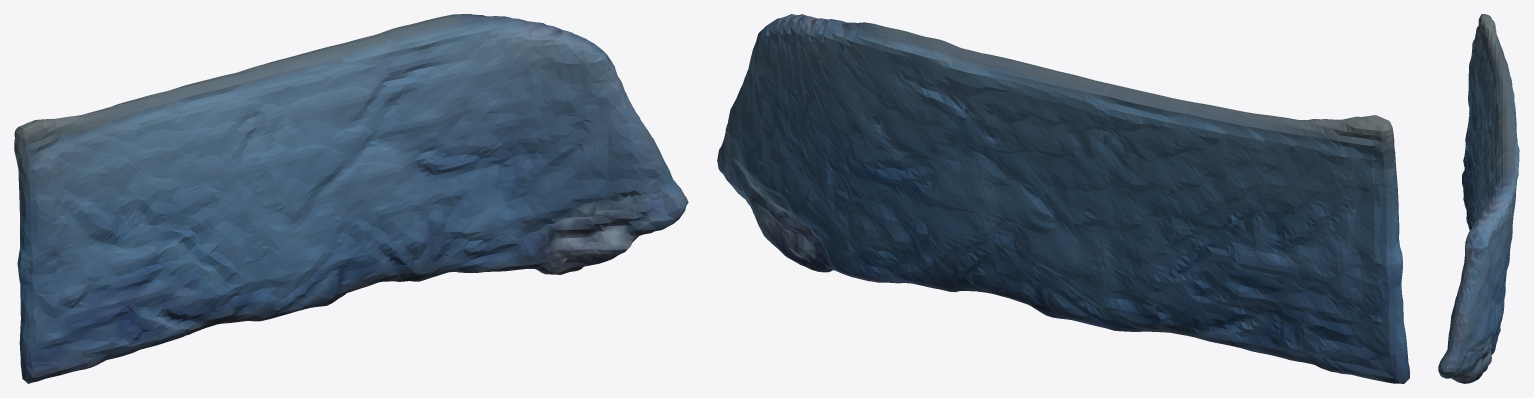
Rendered from pillow.glb.
3 renders of one model, left to right at view 1: azimuth 30°, elevation 25°; view 2: azimuth 150°, elevation 25°; view 3: azimuth 270°, elevation 25°, orthographic. The views are drawn at different scales.
Visible parts, largest first — view 1: geometry_0; view 2: geometry_0; view 3: geometry_0.
Part boxes in pixels (x1,y1,x2,y2): geometry_0: (14, 14, 688, 383); geometry_0: (717, 14, 1409, 383); geometry_0: (1438, 14, 1519, 383).
Size of the model in its own units: 0.3754 by 0.15 by 0.0594.
